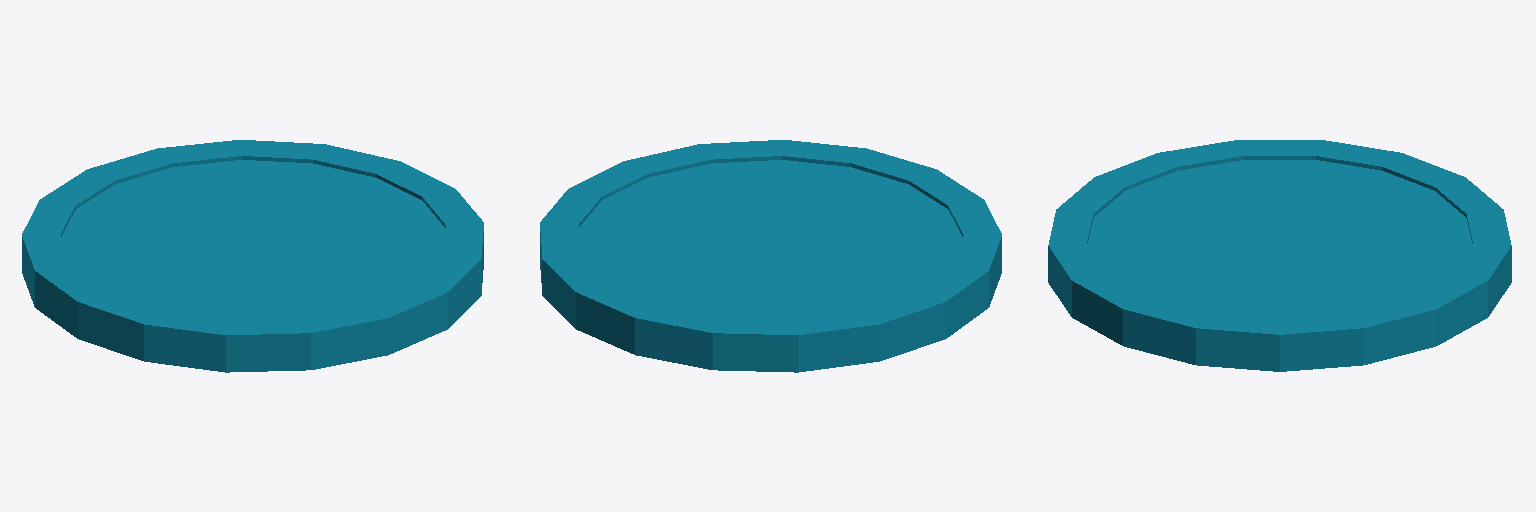
Rendered from piece.obj.
3 views of the same model, side by side, from view 1: azimuth 30°, elevation 25°; view 2: azimuth 150°, elevation 25°; view 3: azimuth 270°, elevation 25° (orthographic).
Visible parts, largest first — view 1: Cylinder001; view 2: Cylinder001; view 3: Cylinder001.
Part boxes in pixels (x1,y1,x2,y2): Cylinder001: (22, 140, 483, 372); Cylinder001: (540, 140, 1001, 372); Cylinder001: (1048, 140, 1511, 371).
Bounding box in the file's own units: 0.5517 × 0.0491 × 0.5541.